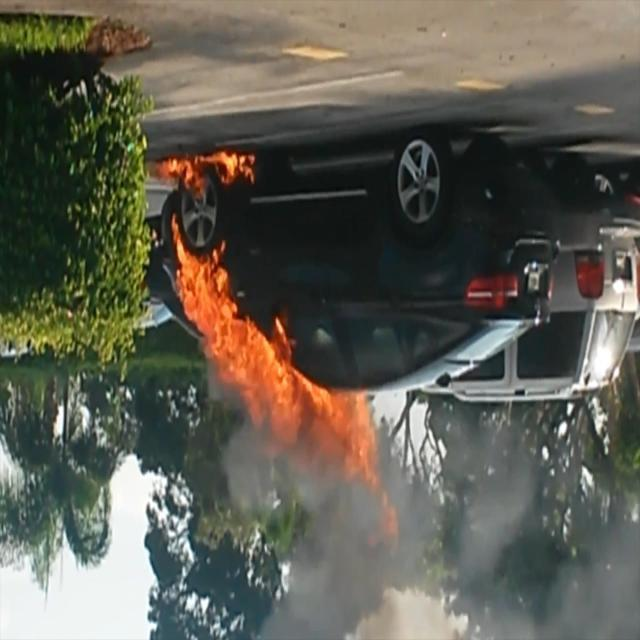fire: (161, 142, 382, 483)
